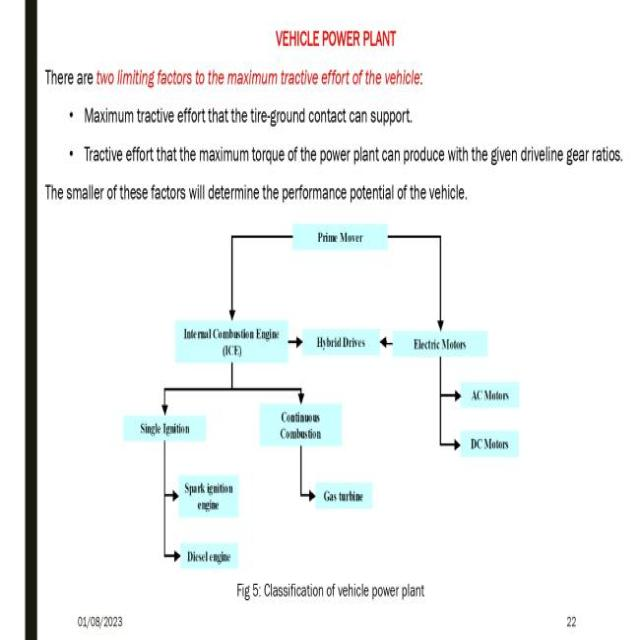Figure Detection - v3 Dataset Version2: (113, 209, 532, 578)
